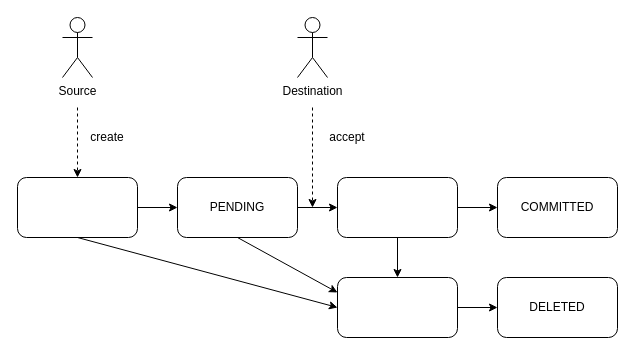
Some shapes in this 635 by 355 pixel diagram are drawn without their labels. Each missing label, with the box of its shape:
ACCEPTED: (336, 176, 458, 238)
NEW: (16, 176, 138, 238)
REJECTED: (336, 276, 458, 338)
